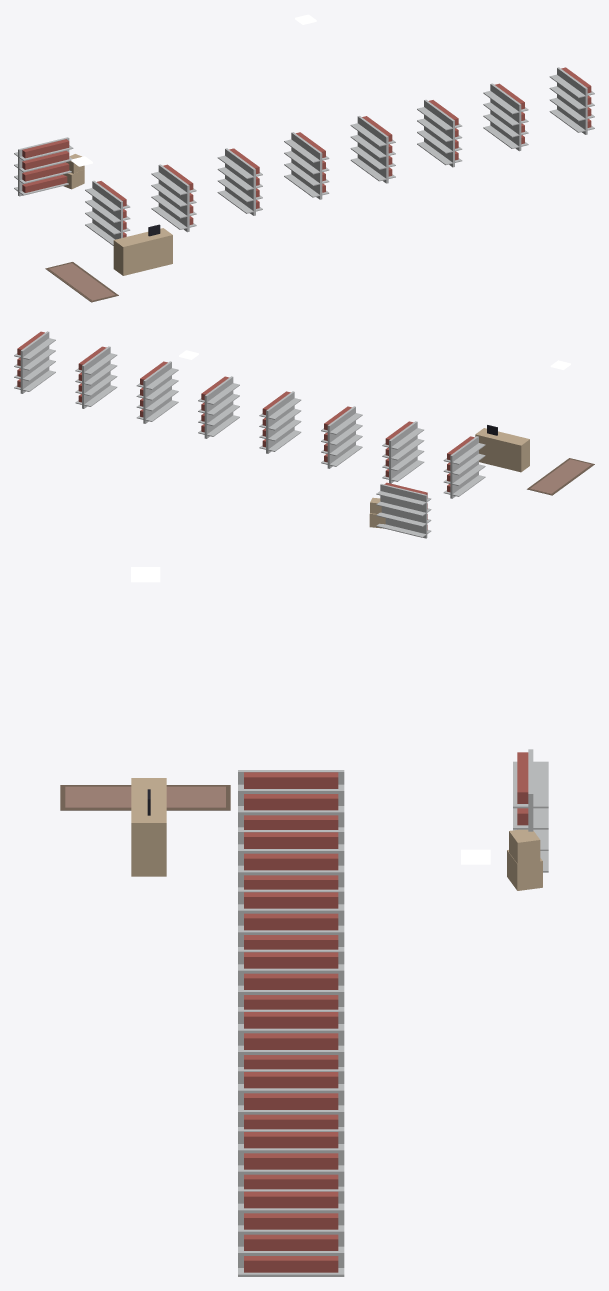
Rendered from fine-s0.glb.
3 renders of one model, top to bottom at view 1: azimuth 30°, elevation 25°; view 2: azimuth 150°, elevation 25°; view 3: azimuth 270°, elevation 25°, orthographic. The views are drawn at different scales.
Parts seen in each view (by area): view 1: shelving.000, shop-counter.000, shelf.001, shelf.004, shelf.007, shelf.002, shelf.003, shelf.006, shelf.005, shelf.000, soft-s0, cardboard-box.000; view 2: shelving.000, shop-counter.000, shelf.004, shelf.006, shelf.003, shelf.007, shelf.001, shelf.005, shelf.002, shelf.000, soft-s0, cardboard-box.000; view 3: shelf.007, shelf.002, shelf.003, shelf.005, shelf.006, shelf.004, shelf.000, shelf.001, shop-counter.000, soft-s0, shelving.000, cardboard-box.000.
Part boxes in pixels (left/top/right/bottom): shelving.000: left=14, top=137, right=73, bottom=196; shop-counter.000: left=113, top=224, right=172, bottom=275; shelf.001: left=151, top=164, right=196, bottom=232; shelf.004: left=350, top=116, right=395, bottom=183; shelf.007: left=549, top=67, right=594, bottom=134; shelf.002: left=217, top=148, right=262, bottom=215; shelf.003: left=284, top=132, right=329, bottom=199; shelf.006: left=483, top=83, right=528, bottom=151; shelf.005: left=417, top=99, right=462, bottom=167; shelf.000: left=85, top=180, right=130, bottom=245; soft-s0: left=45, top=262, right=118, bottom=302; cardboard-box.000: left=63, top=154, right=84, bottom=189; shelving.000: left=376, top=482, right=431, bottom=538; shop-counter.000: left=475, top=425, right=529, bottom=472; shelf.004: left=198, top=376, right=239, bottom=438; shelf.006: left=75, top=346, right=117, bottom=408; shelf.003: left=259, top=391, right=301, bottom=453; shelf.007: left=14, top=331, right=55, bottom=393; shelf.001: left=382, top=421, right=424, bottom=483; shelf.005: left=136, top=361, right=178, bottom=423; shelf.002: left=321, top=406, right=362, bottom=468; shelf.000: left=443, top=436, right=485, bottom=498; soft-s0: left=527, top=458, right=594, bottom=495; cardboard-box.000: left=369, top=497, right=385, bottom=528; shelf.007: left=238, top=1189, right=344, bottom=1276; shelf.002: left=238, top=889, right=344, bottom=949; shelf.003: left=238, top=949, right=344, bottom=1009; shelf.005: left=238, top=1069, right=344, bottom=1129; shelf.006: left=238, top=1129, right=344, bottom=1189; shelf.004: left=238, top=1009, right=344, bottom=1069; shelf.000: left=238, top=770, right=344, bottom=829; shelf.001: left=238, top=830, right=344, bottom=889; shop-counter.000: left=131, top=778, right=166, bottom=876; soft-s0: left=60, top=785, right=230, bottom=810; shelving.000: left=513, top=749, right=548, bottom=872; cardboard-box.000: left=507, top=829, right=542, bottom=890.
Size of the model in its own units: 19.94 by 4.2 by 8.26.
